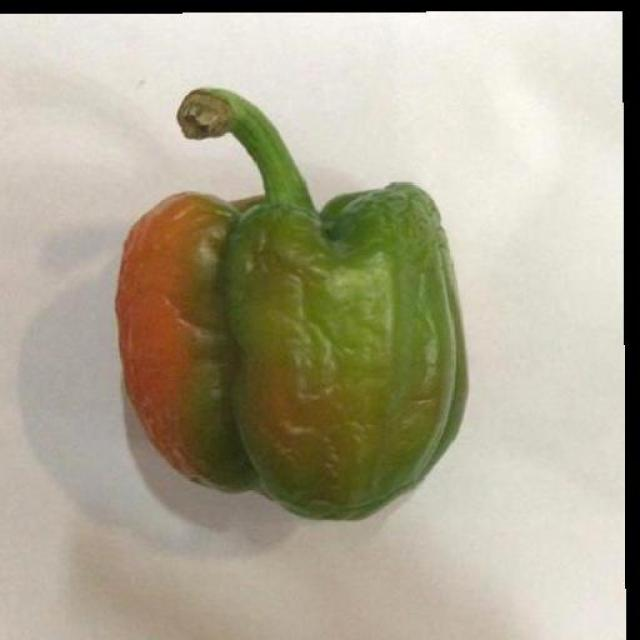Stale_Capsicum: (111, 78, 477, 507)
